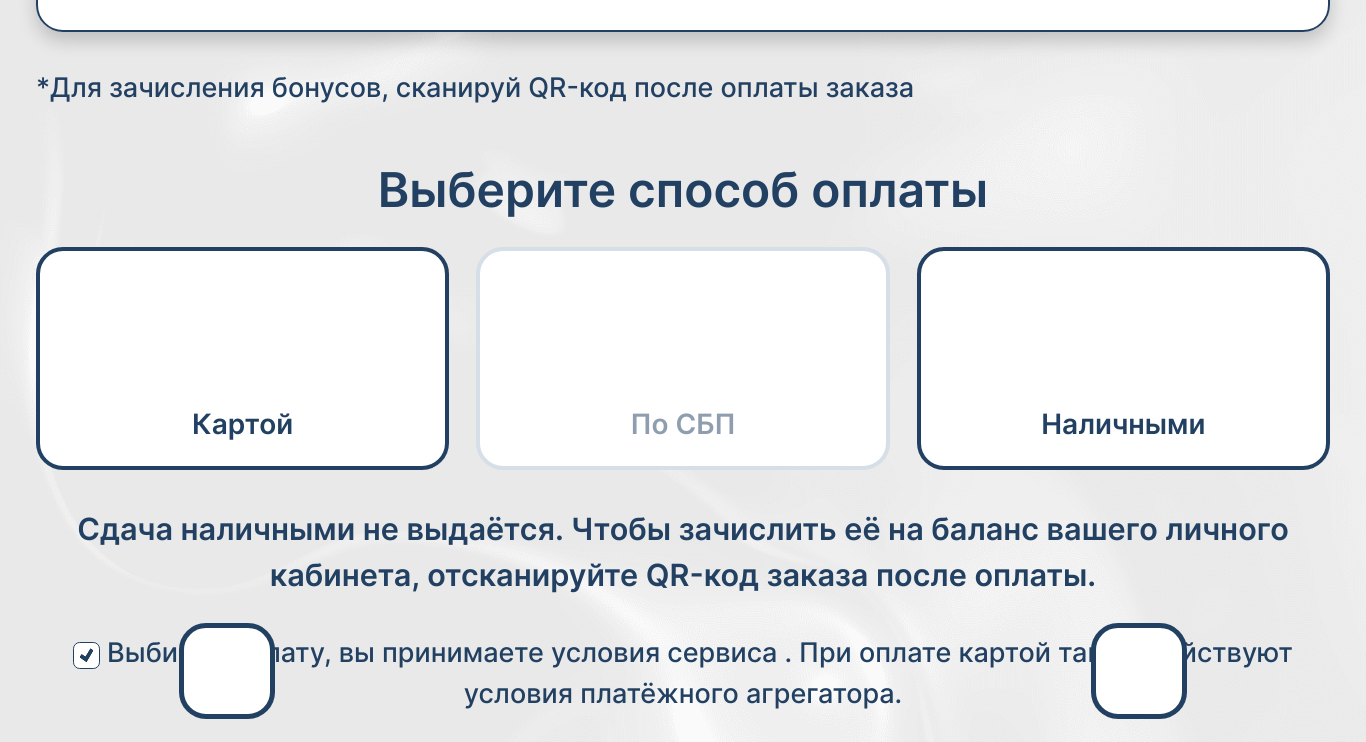
Test: Preorder payment tiles › silently disables a method that becomes unavailable during the final check
(page scrolled)
Click the button "Картой": (243, 358) [36,247,449,470]
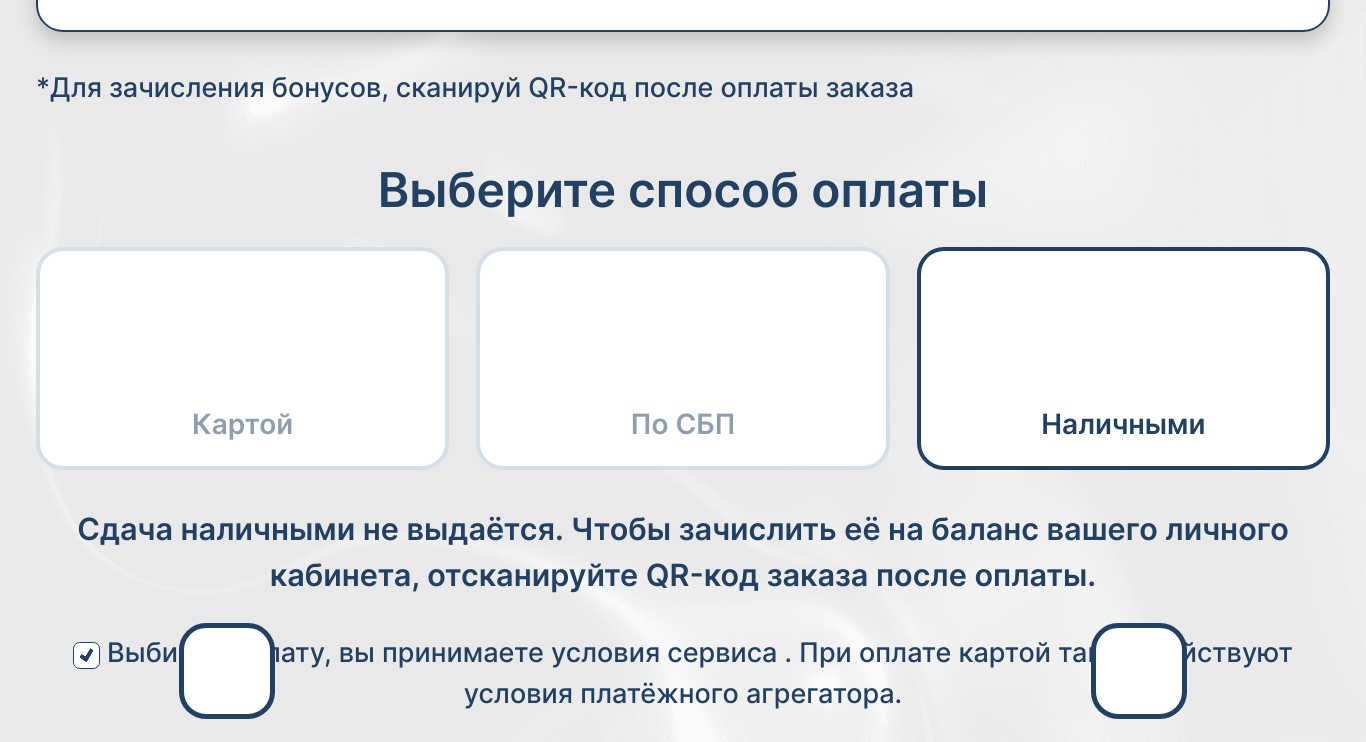
Expected: the button "Наличными" is enabled, [917,247,1330,470]
Expected: the button "Картой" is disabled, [36,247,449,470]
